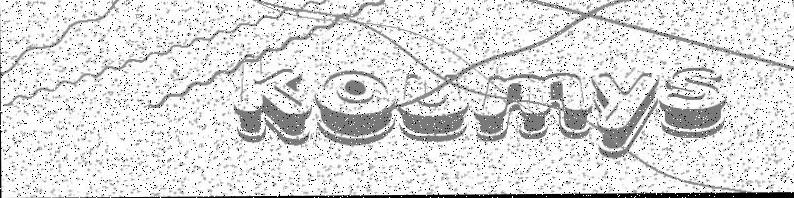k: (226, 50, 319, 154)
m: (473, 73, 594, 143)
o: (312, 64, 397, 154)
s: (657, 60, 731, 142)
u: (394, 70, 471, 147)
y: (590, 71, 664, 160)
